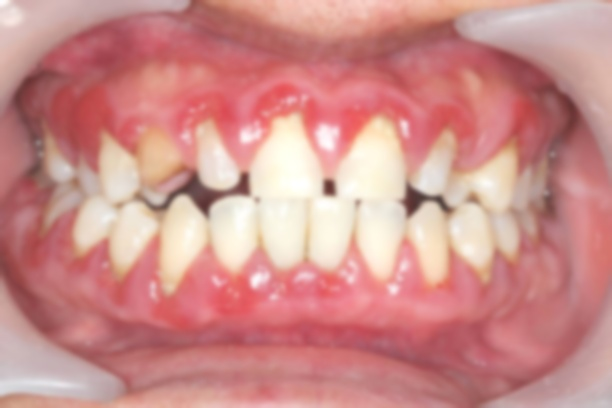Gingivitis: (213, 274, 359, 327), (51, 86, 150, 154), (344, 93, 420, 146), (171, 84, 237, 141), (250, 81, 317, 134), (144, 274, 198, 331), (24, 226, 71, 278), (430, 98, 478, 144)
